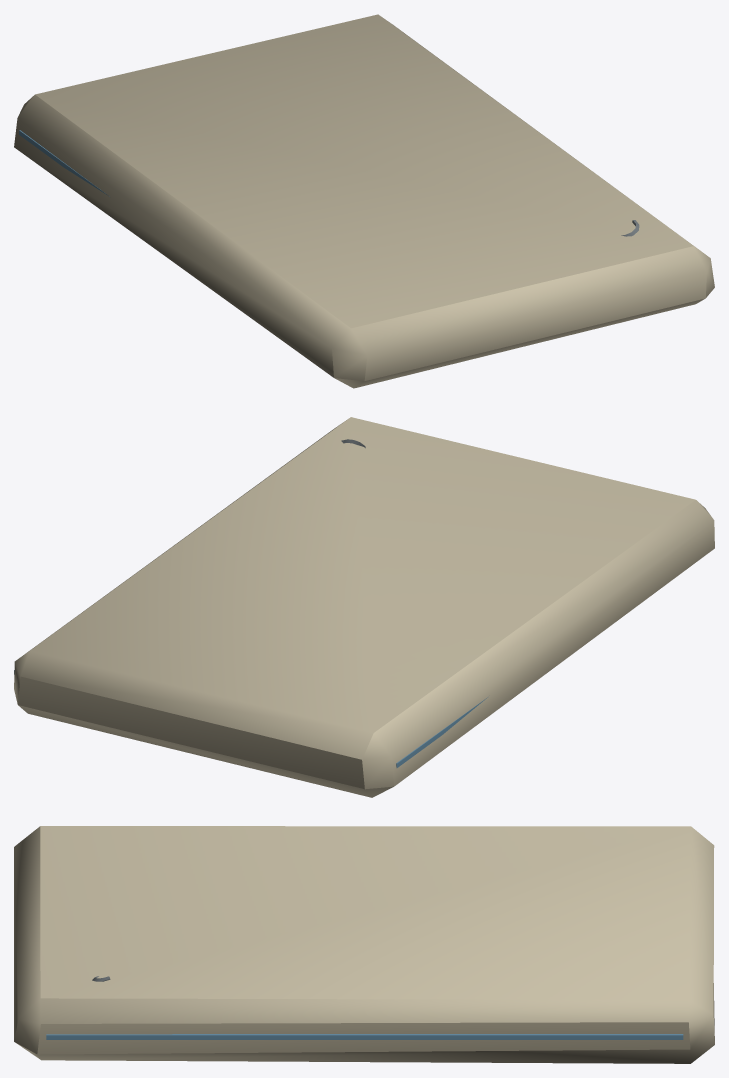
Rendered from 23_matelas.fbx.
3 views of the same model, one above another, from view 1: azimuth 30°, elevation 25°; view 2: azimuth 150°, elevation 25°; view 3: azimuth 270°, elevation 25° (orthographic). The views are drawn at different scales.
Parts seen in each view (by area): view 1: Matelas; view 2: Matelas; view 3: Matelas.
Boxes of the visible parts, left/top/right/bottom form: Matelas: left=14, top=14, right=714, bottom=388; Matelas: left=14, top=417, right=714, bottom=797; Matelas: left=14, top=826, right=714, bottom=1063.
Size of the model in its own units: 1.26 by 0.224 by 1.96.
Materials: 1 (1 with a texture image).
